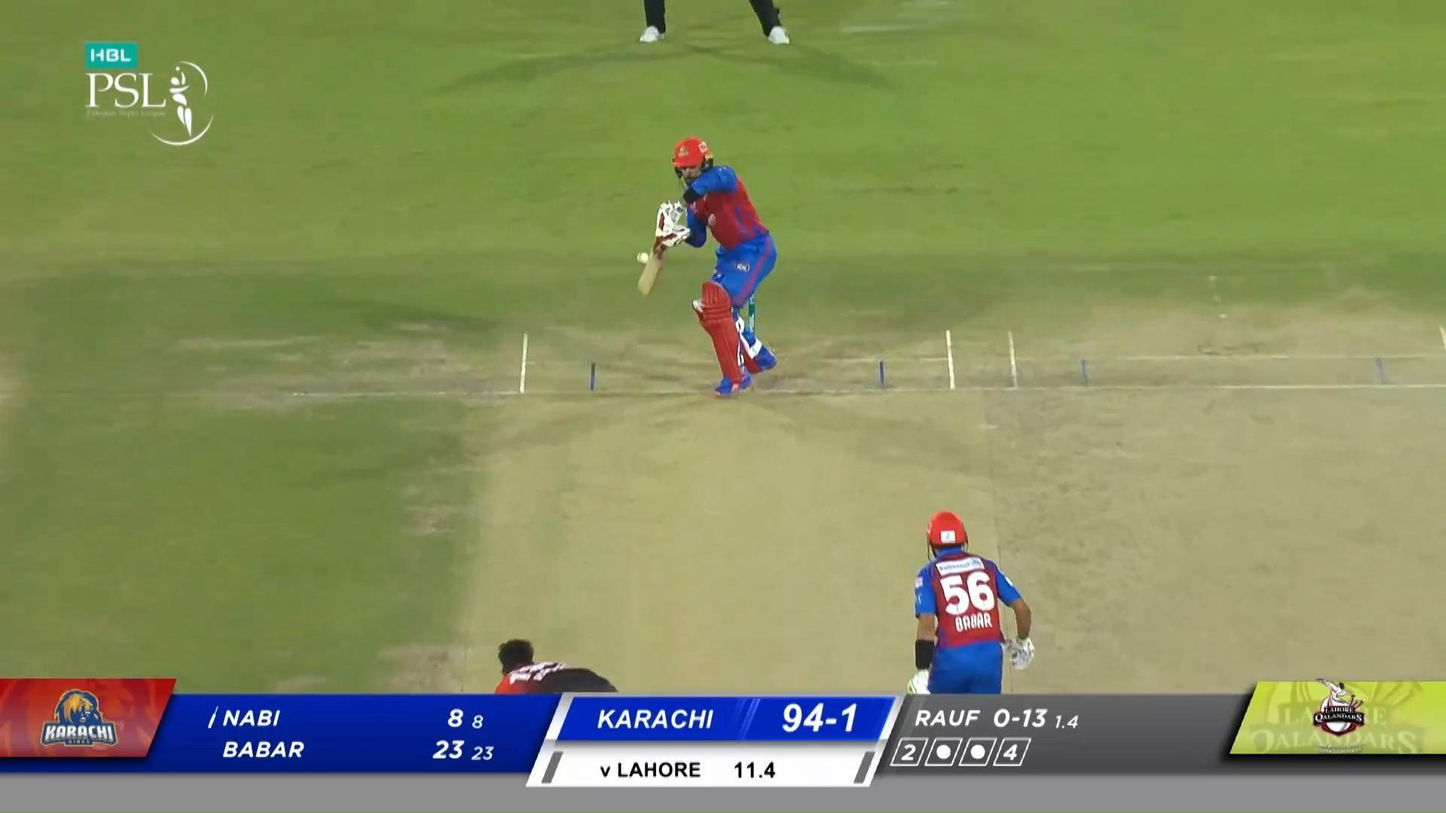BM 1: (636, 137, 778, 398)
BO: (495, 637, 620, 693)
